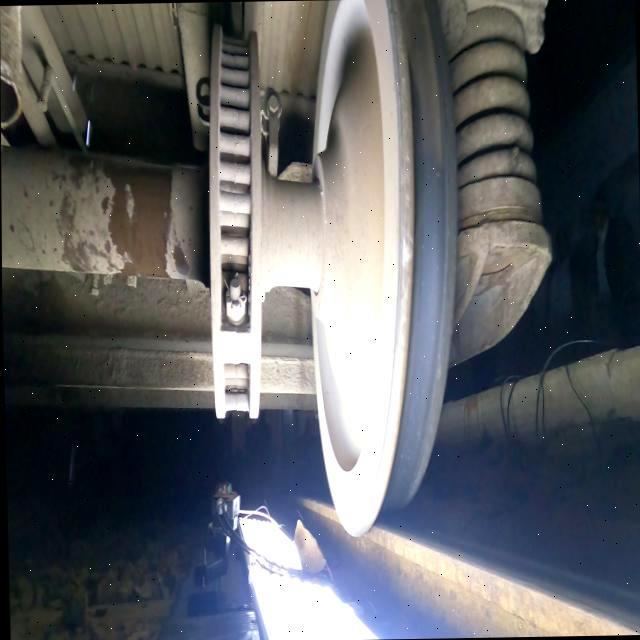Cracks-Scratches: (400, 234, 412, 266)
Shelling: (400, 0, 444, 159)
Wheel: (309, 0, 457, 535)
